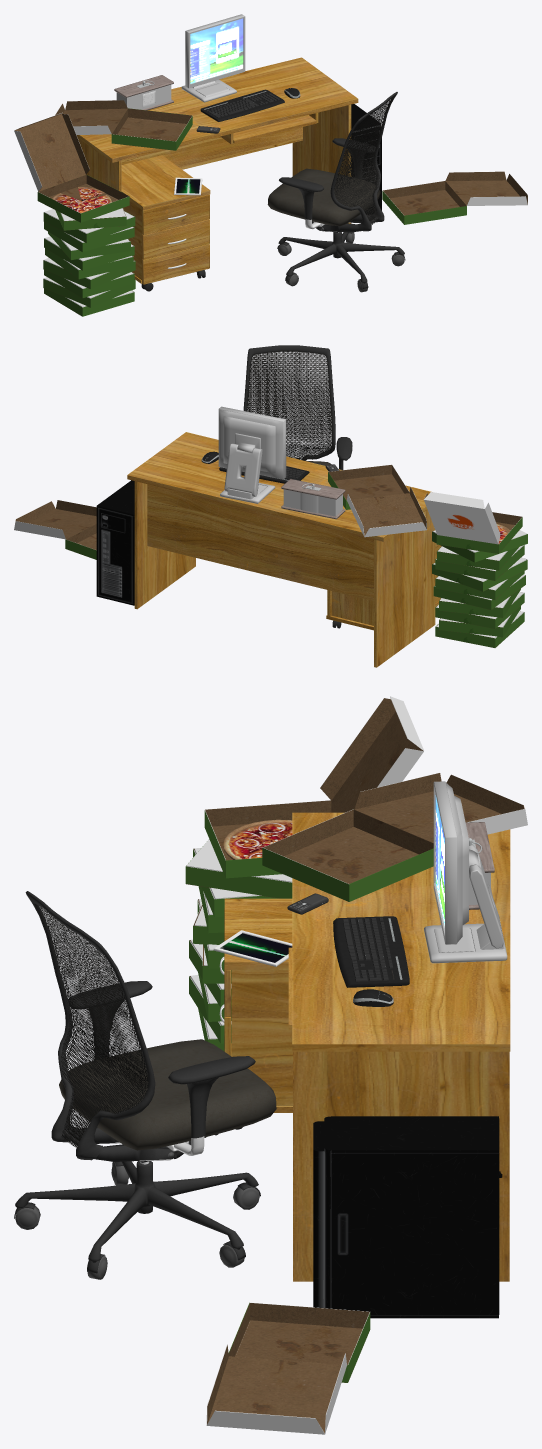
The picture shows the model from 3 angles, top to bottom: view 1: azimuth 30°, elevation 25°; view 2: azimuth 150°, elevation 25°; view 3: azimuth 270°, elevation 25°; orthographic projection. The views are drawn at different scales.
Visible parts, largest first — view 1: Wooden_Table001, Office-Chair001, PizzaBox_HalfOpened, PizzaBox_FullOpened, PizzaBox_FullOpened001, Display001, Wireless_PC, Table-Clock001_Table-Clock_0, Computer001, PizzaBox_Closed008, PizzaBox_Closed003, PizzaBox_Closed001 (+9 smaller); view 2: Wooden_Table001, Office-Chair001, Display001, PizzaBox_FullOpened001, Computer001, PizzaBox_HalfOpened, PizzaBox_FullOpened, Table-Clock001_Table-Clock_0, PizzaBox_Closed006, PizzaBox_Closed004, PizzaBox_Closed002, PizzaBox_Closed (+7 smaller); view 3: Wooden_Table001, Office-Chair001, Computer001, PizzaBox_FullOpened, PizzaBox_FullOpened001, PizzaBox_HalfOpened, Display001, Wireless_PC, PizzaBox_Closed009, Pizza_Pizza_0, Picture_007_Pictures_0, Table-Clock001_Table-Clock_0.
Part boxes in pixels (box(x1,y1,x2,y2)): Wooden_Table001: box(76, 57, 358, 291); Office-Chair001: box(267, 92, 405, 292); PizzaBox_HalfOpened: box(14, 112, 129, 222); PizzaBox_FullOpened: box(382, 171, 527, 224); PizzaBox_FullOpened001: box(55, 100, 192, 150); Display001: box(181, 14, 245, 102); Wireless_PC: box(200, 88, 300, 121); Table-Clock001_Table-Clock_0: box(114, 75, 173, 110); Computer001: box(351, 104, 381, 214); PizzaBox_Closed008: box(43, 209, 135, 242); PizzaBox_Closed003: box(43, 257, 135, 289); PizzaBox_Closed001: box(43, 277, 135, 307); Wooden_Table001: box(127, 432, 441, 667); Office-Chair001: box(243, 345, 352, 469); Display001: box(218, 406, 286, 503); PizzaBox_FullOpened001: box(328, 464, 426, 537); Computer001: box(96, 480, 134, 605); PizzaBox_HalfOpened: box(423, 492, 522, 553); PizzaBox_FullOpened: box(14, 500, 96, 559); Table-Clock001_Table-Clock_0: box(281, 479, 345, 519); PizzaBox_Closed006: box(432, 557, 527, 591); PizzaBox_Closed004: box(433, 574, 525, 609); PizzaBox_Closed002: box(435, 592, 524, 628); PizzaBox_Closed: box(435, 611, 524, 647); Wooden_Table001: box(219, 812, 510, 1281); Office-Chair001: box(14, 891, 276, 1279); Computer001: box(313, 1116, 502, 1318); PizzaBox_FullOpened: box(206, 1302, 370, 1434); PizzaBox_FullOpened001: box(262, 772, 527, 901); PizzaBox_HalfOpened: box(204, 696, 423, 878); Display001: box(424, 781, 507, 963); Wireless_PC: box(333, 916, 409, 1006); PizzaBox_Closed009: box(185, 839, 292, 898); Pizza_Pizza_0: box(223, 819, 292, 859); Picture_007_Pictures_0: box(213, 930, 292, 966); Table-Clock001_Table-Clock_0: box(465, 822, 494, 909).
Size of the model in its own units: 289 by 116 by 141.
